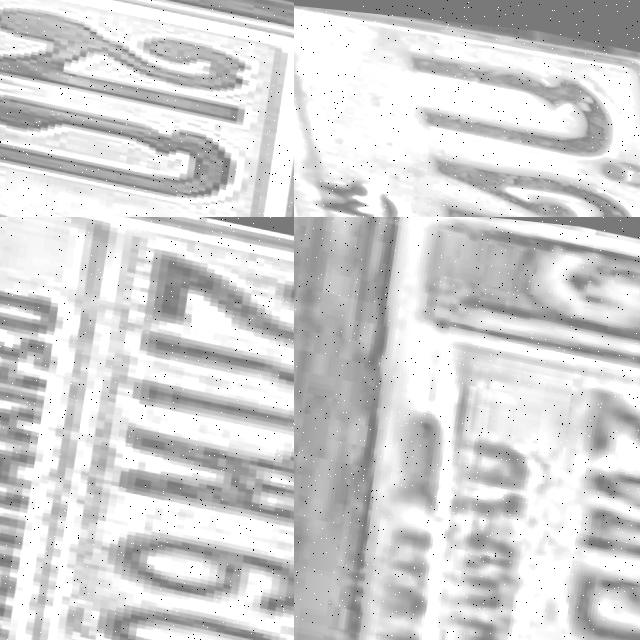license-plate: (319, 217, 640, 640), (0, 217, 294, 640), (294, 0, 640, 217), (0, 0, 294, 217)
